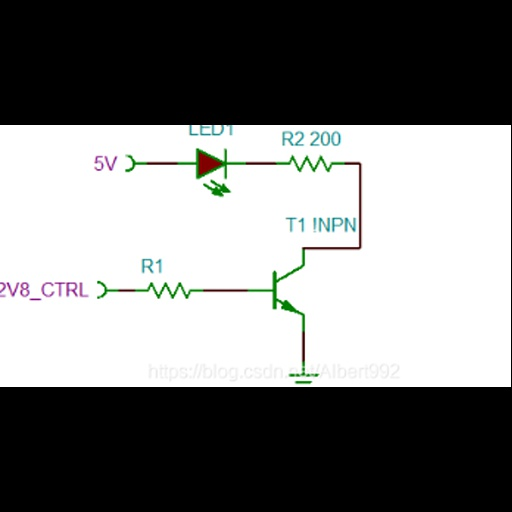firstled: (193, 143, 234, 202)
gnd: (283, 371, 323, 387)
npn: (262, 259, 314, 322)
secondresistance: (284, 149, 336, 178), (141, 279, 200, 303)
